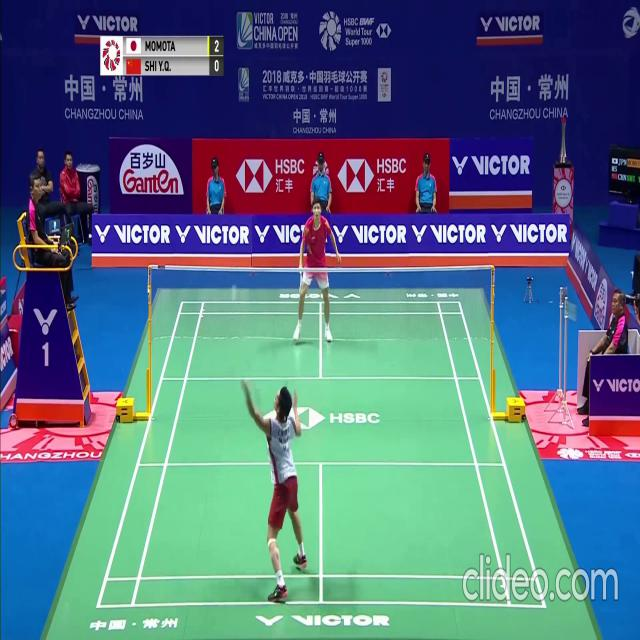Shuttlecock: (232, 293, 236, 301)
